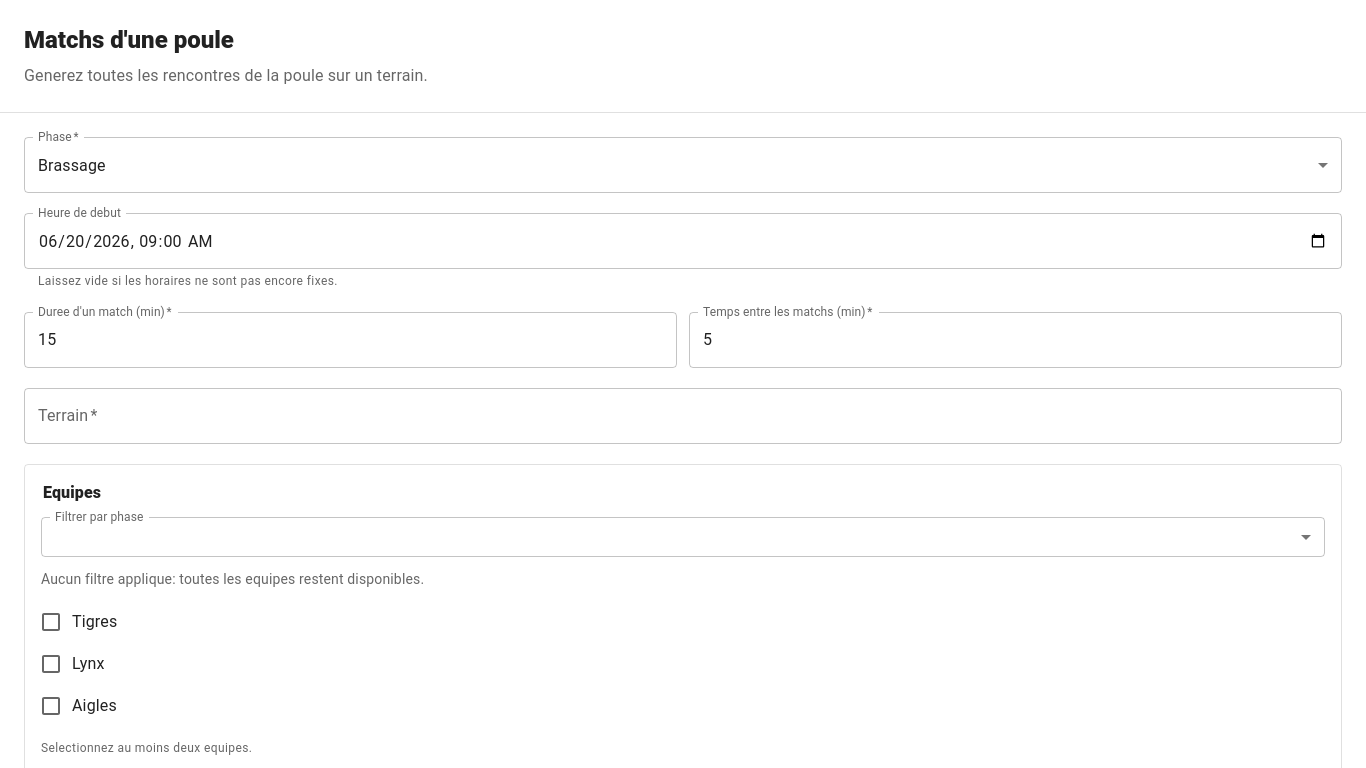
Test case: CreatePoolGamesForm › should only list pool phases
Step 1. Press the mouse on the dropdown named "Phase" → (72, 165), box [38,156,106,174]
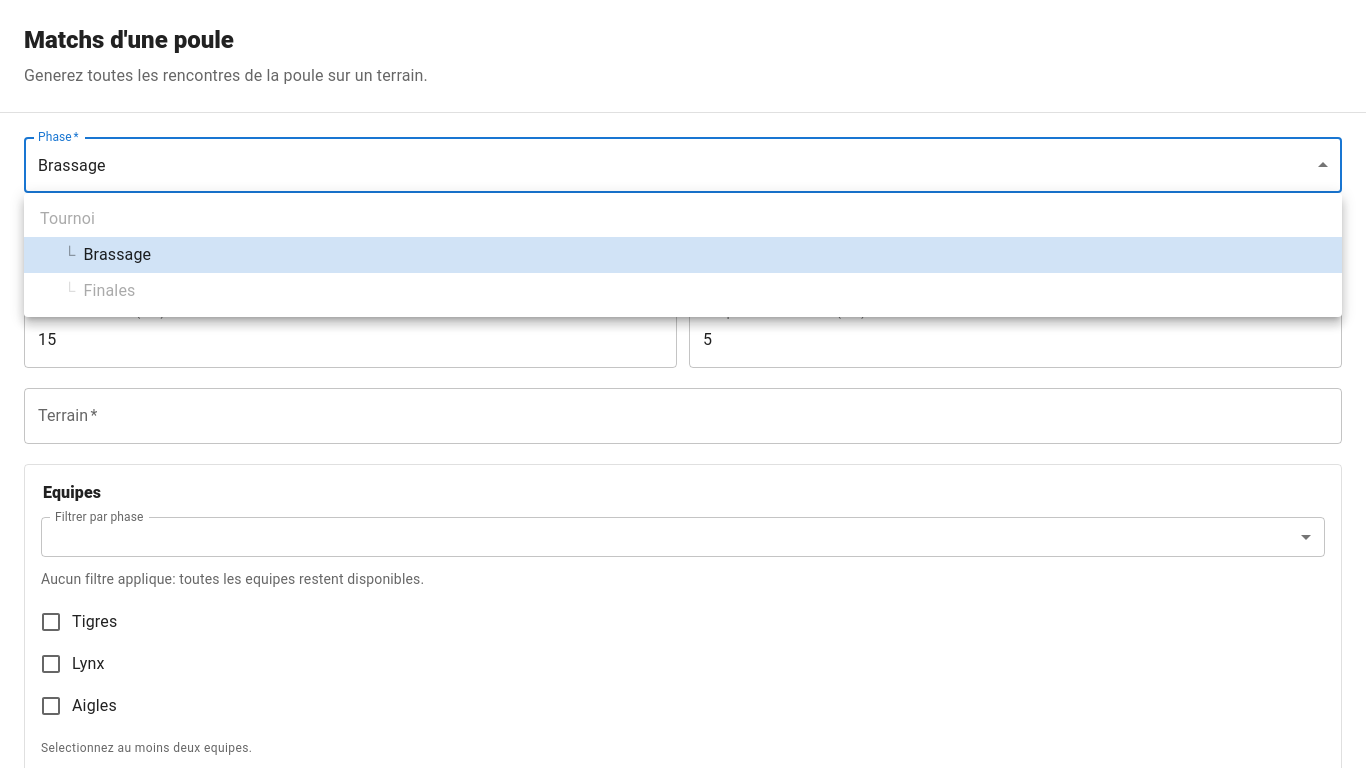
Now the option "└ Brassage" is shown, box [24,237,1342,273]
